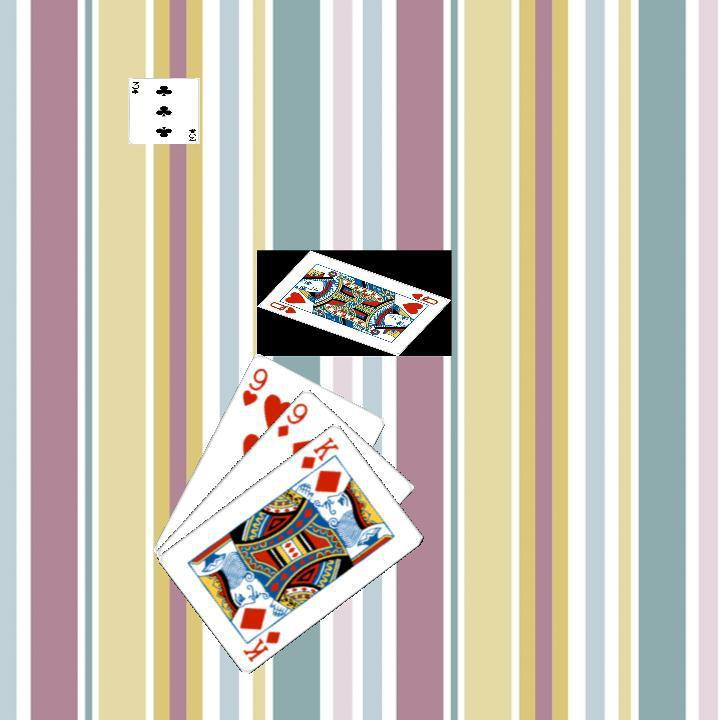9: (273, 398, 310, 439), (237, 363, 270, 408)
K: (296, 432, 341, 471), (239, 626, 283, 664)
